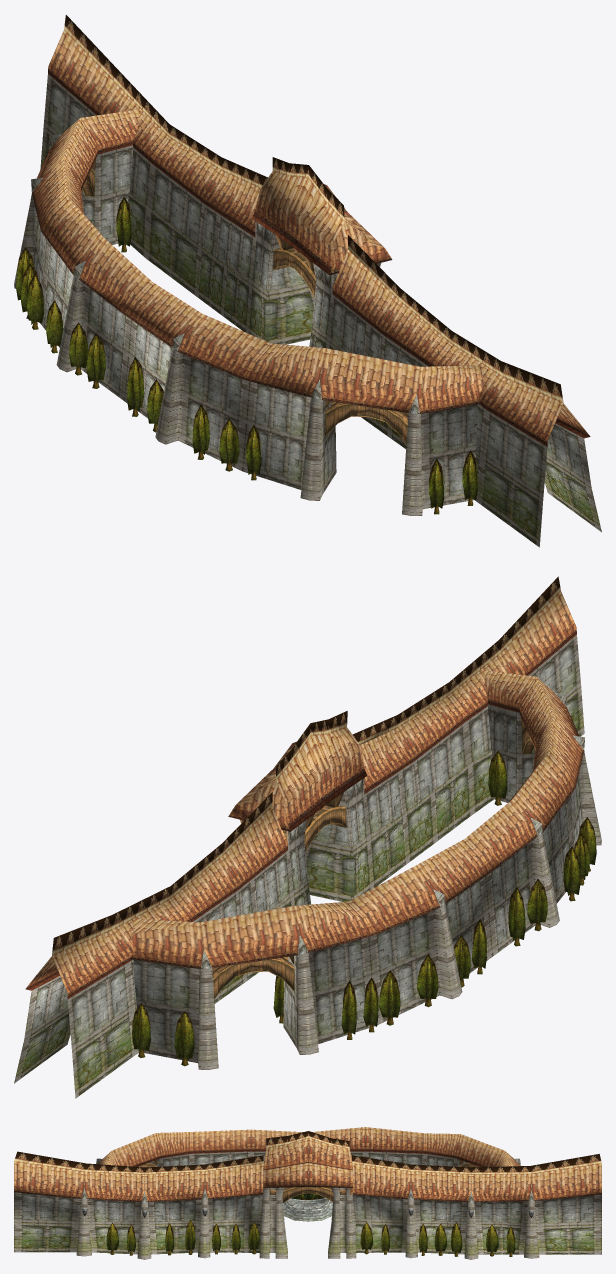
Rendered from abbeygate01.glb.
3 views of the same model, one above another, from view 1: azimuth 30°, elevation 25°; view 2: azimuth 150°, elevation 25°; view 3: azimuth 270°, elevation 25° (orthographic). The views are drawn at different scales.
Size of the model in its own units: 48.3 by 33.77 by 160.
Materials: 10 (10 with a texture image).
